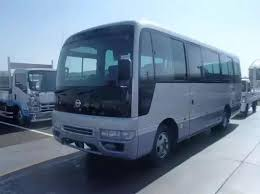minibus: (52, 18, 242, 163)
pickup: (1, 66, 54, 127), (242, 79, 260, 116)
